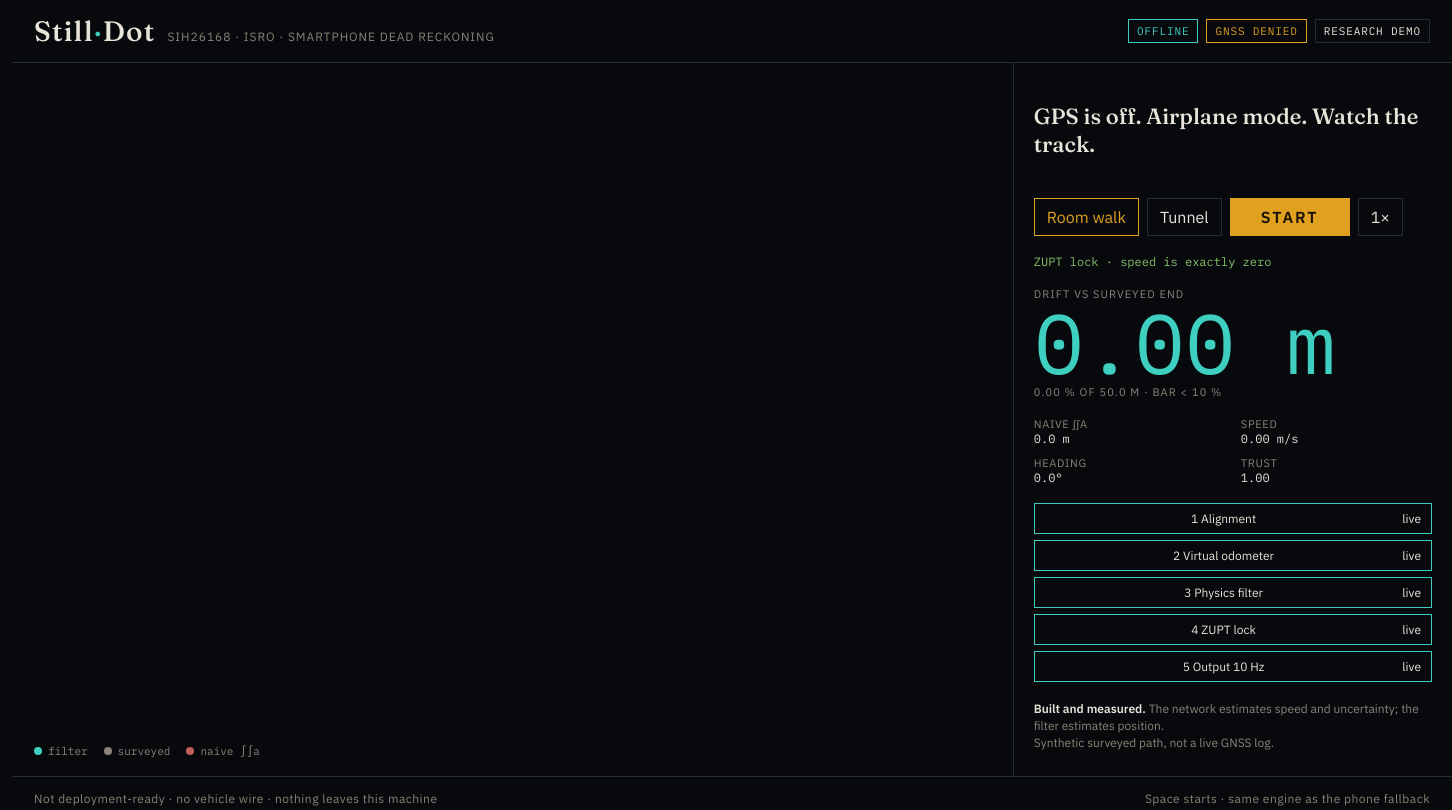
Scenario: start toggles to hold and scenario switch reloads
Check: the text "GPS is off. Airplane mode. Watch the track." is shown, box [1034, 103, 1432, 158]
Step 1. Click the button "START" → x=1290, y=217, box [1230, 198, 1350, 236]
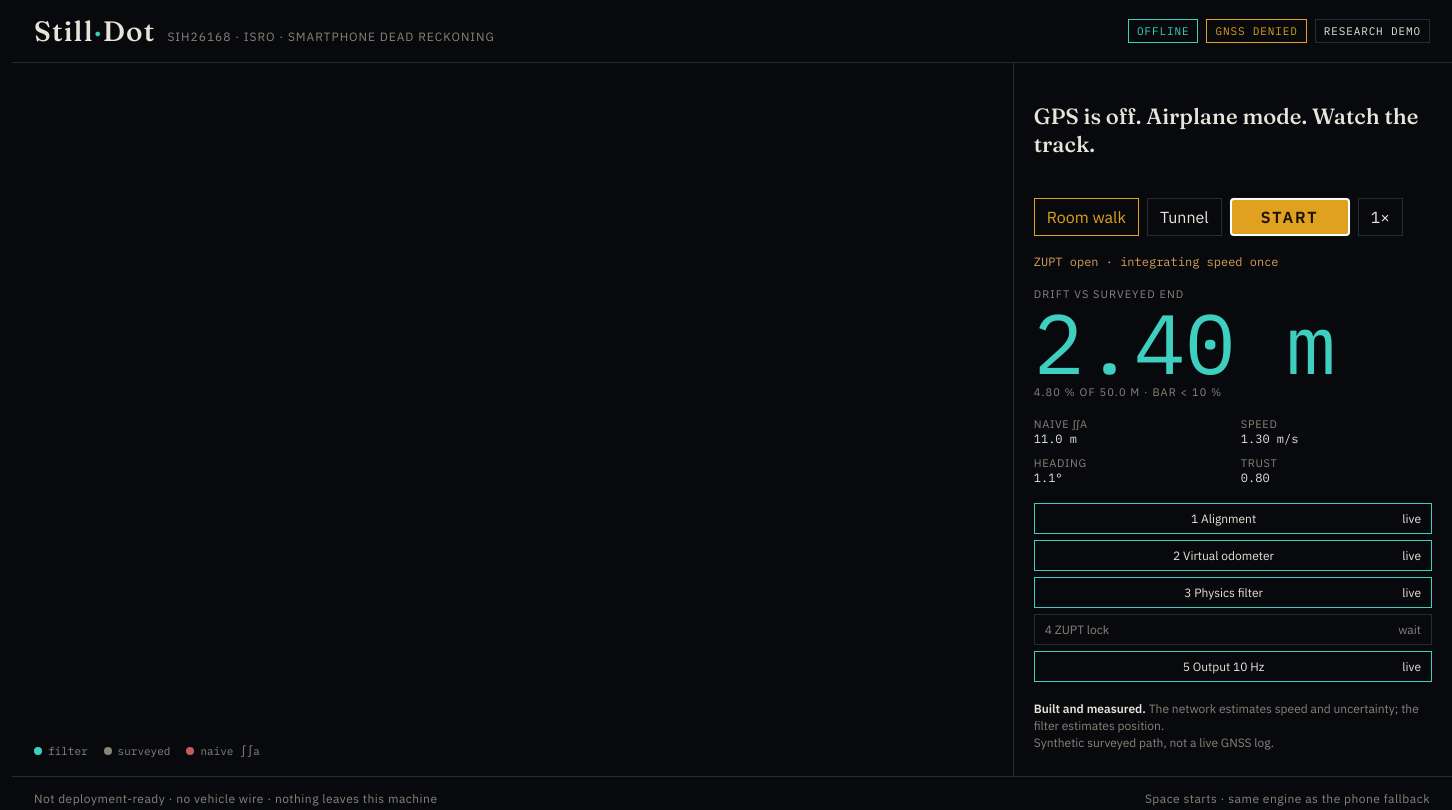
Step 2. Click the button "Tunnel" → x=1184, y=217, box [1147, 198, 1222, 236]
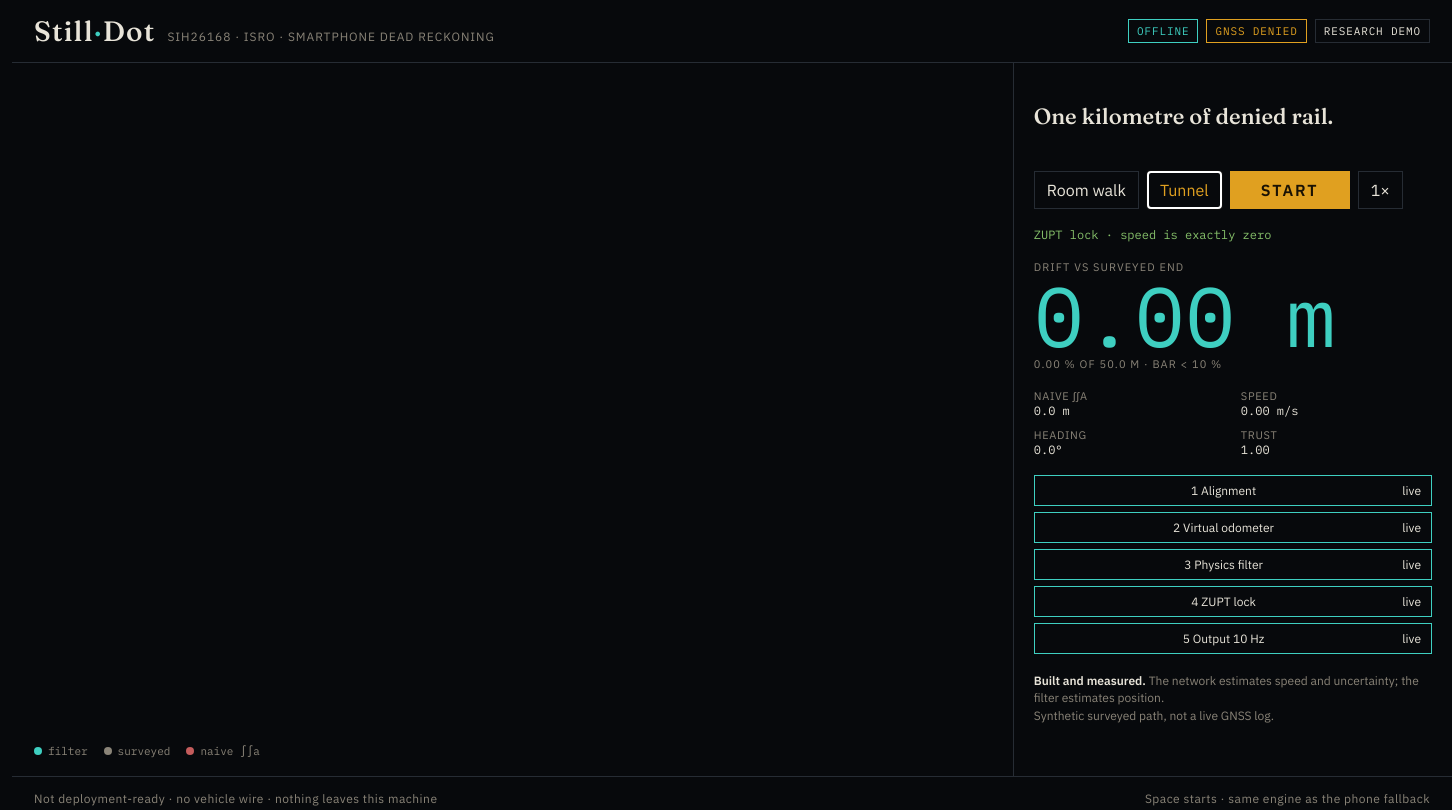
Check: the text "One kilometre of denied rail." is shown, box [1034, 102, 1333, 130]
